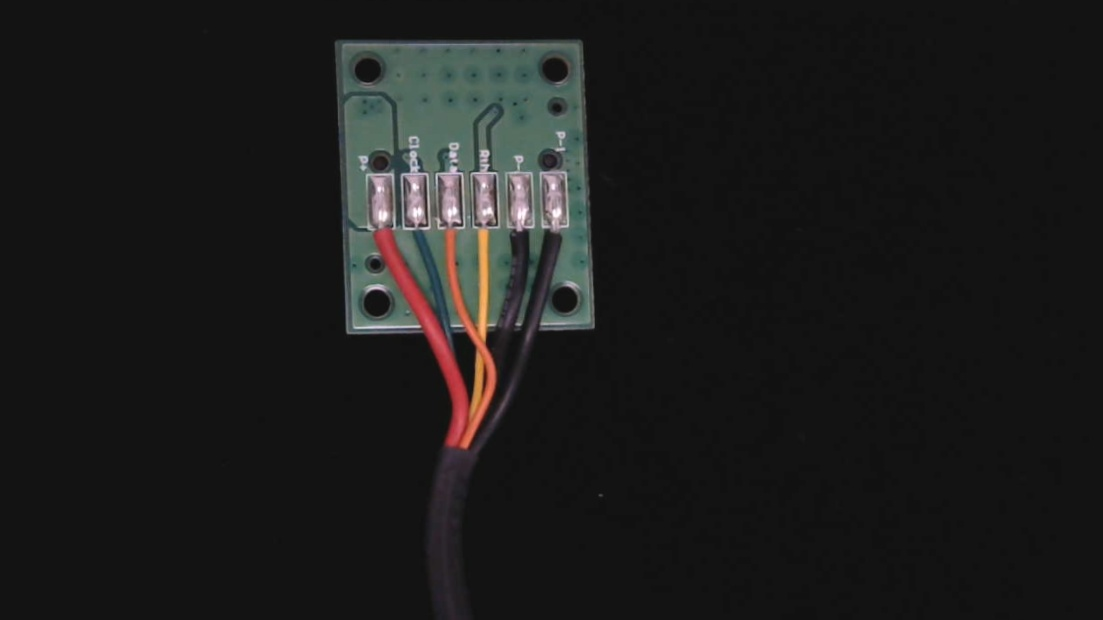Black: (503, 216, 537, 272)
Black1: (542, 214, 572, 273)
Green: (404, 214, 431, 266)
Orange: (437, 216, 466, 269)
Red: (367, 216, 397, 267)
Yellow: (471, 215, 501, 273)
